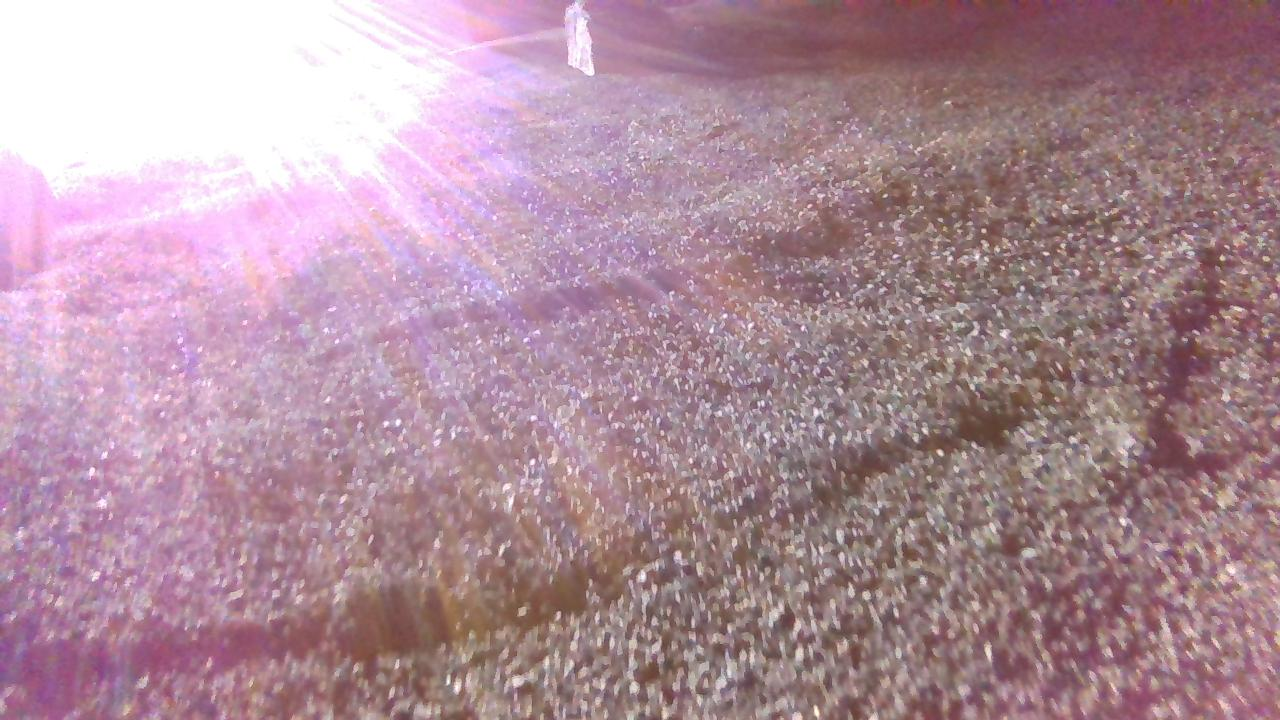rock: (569, 1, 679, 74)
